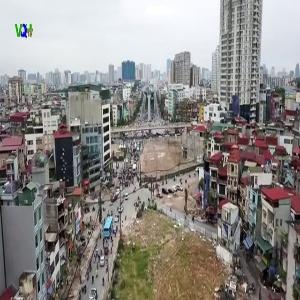drone: (214, 79, 270, 135)
